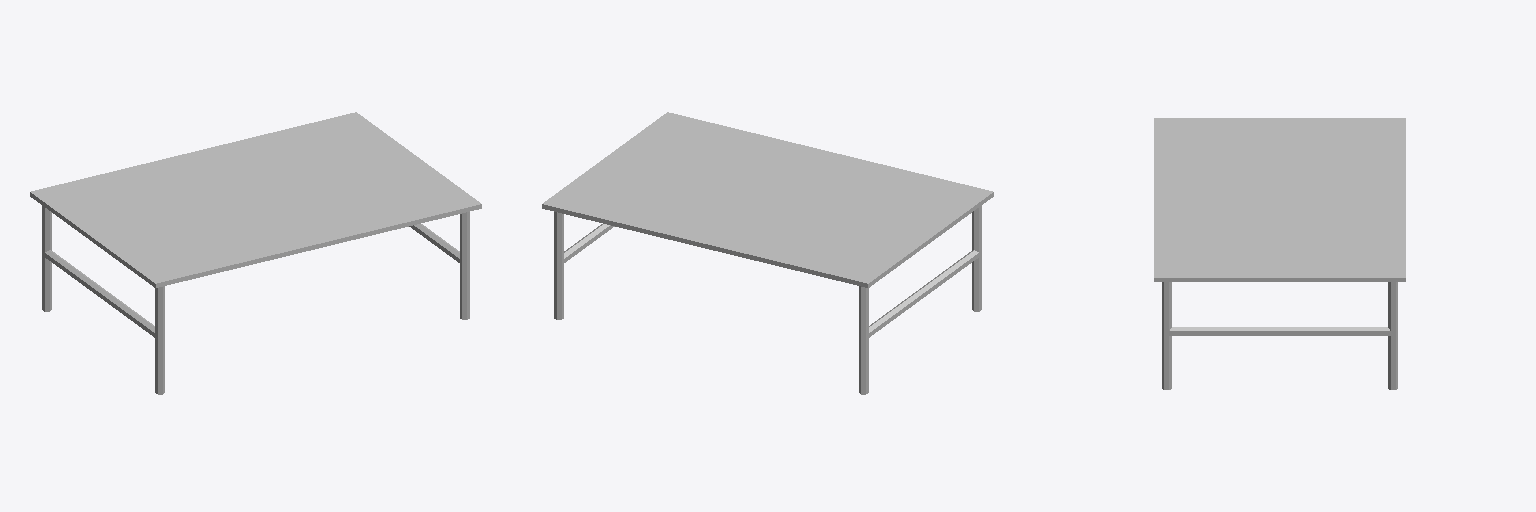
File: table.obj
3 views of the same model, side by side, from view 1: azimuth 30°, elevation 25°; view 2: azimuth 150°, elevation 25°; view 3: azimuth 270°, elevation 25° (orthographic).
Parts seen in each view (by area): view 1: Cube, Cylinder.003, Cylinder.004, Cylinder.001, Cylinder.005, Cylinder.002; view 2: Cube, Cylinder.003, Cylinder.005, Cylinder, Cylinder.004, Cylinder.002; view 3: Cube, Cylinder.002, Cylinder.001, Cylinder.
Part boxes in pixels (x1,y1,x2,y2): Cube: (30, 112, 481, 287); Cylinder.003: (43, 250, 156, 337); Cylinder.004: (155, 286, 164, 394); Cylinder.001: (460, 212, 469, 319); Cylinder.005: (42, 206, 51, 311); Cylinder.002: (409, 224, 461, 264); Cube: (542, 112, 993, 287); Cylinder.003: (867, 250, 980, 337); Cylinder.005: (859, 286, 868, 394); Cylinder: (554, 212, 563, 319); Cylinder.004: (972, 206, 981, 311); Cylinder.002: (563, 224, 614, 263); Cube: (1154, 118, 1405, 281); Cylinder.002: (1167, 327, 1393, 335); Cylinder.001: (1162, 282, 1171, 389); Cylinder: (1388, 282, 1397, 389).
Bounding box in the file's own units: 3 × 1.02 × 2.